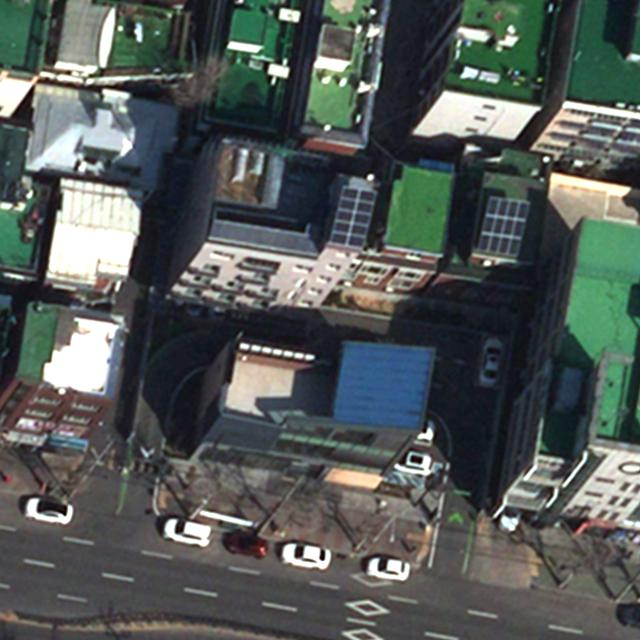panel: (477, 196, 532, 262), (331, 185, 376, 249)
